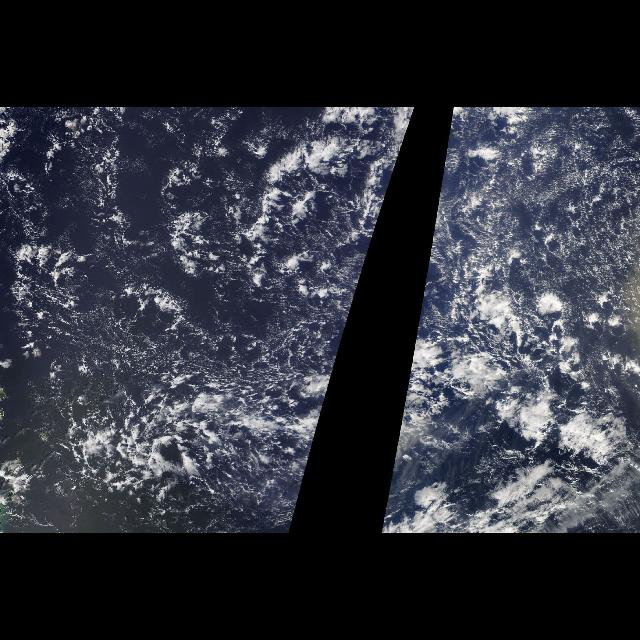Gravel: (32, 222, 356, 478), (428, 109, 640, 351)
Sugar: (456, 112, 630, 388)
